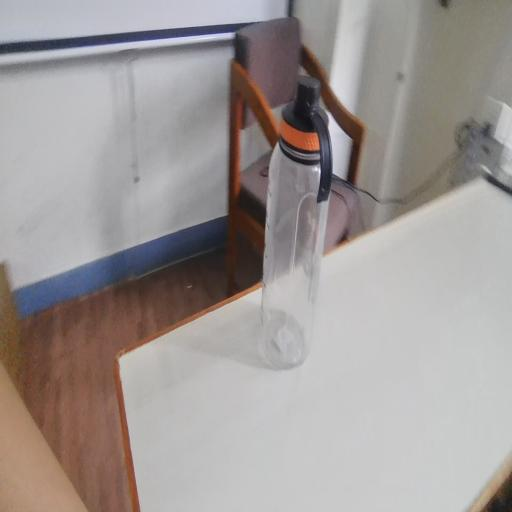Bottle: (266, 89, 334, 333)
